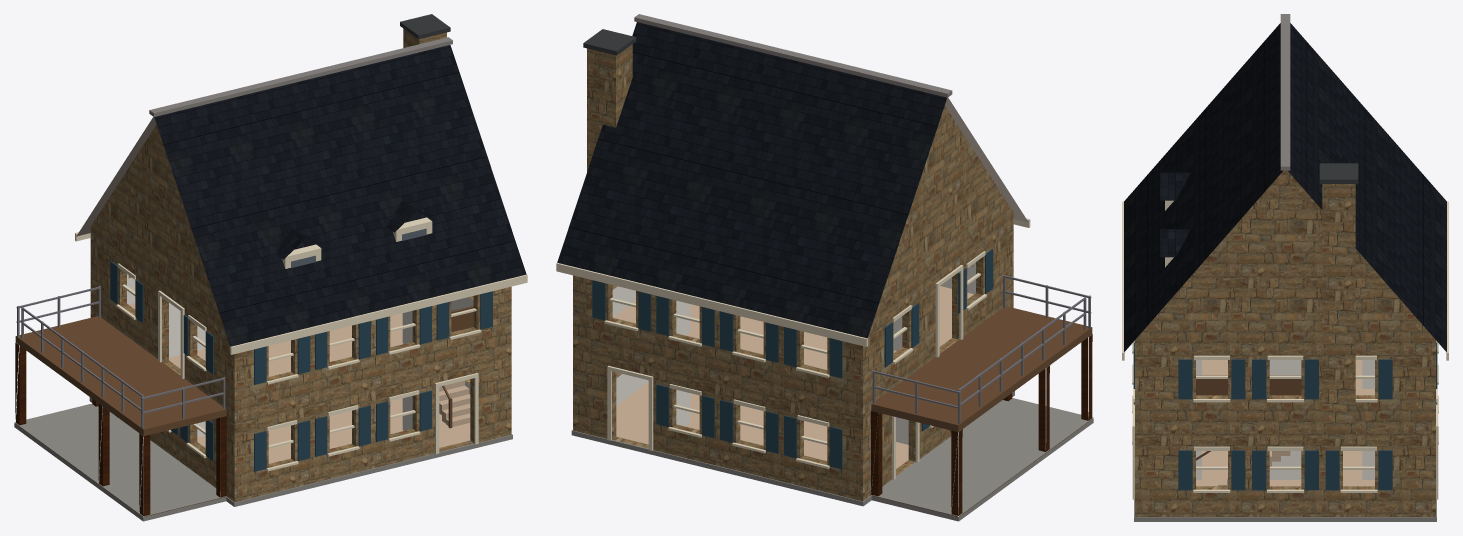
File: rw-stone-cottage.towns-v2.lod0.glb
3 views of the same model, side by side, from view 1: azimuth 30°, elevation 25°; view 2: azimuth 150°, elevation 25°; view 3: azimuth 270°, elevation 25° (orthographic). The views are drawn at different scales.
Parts seen in each view (by area): view 1: rw-stone-cottage; view 2: rw-stone-cottage; view 3: rw-stone-cottage.
Part boxes in pixels (bbox=[...]): rw-stone-cottage: bbox=[14, 14, 527, 521]; rw-stone-cottage: bbox=[556, 14, 1093, 521]; rw-stone-cottage: bbox=[1122, 14, 1448, 521].
Size of the model in its own units: 14.01 by 11.93 by 9.78.
Materials: 6 (3 with a texture image).
